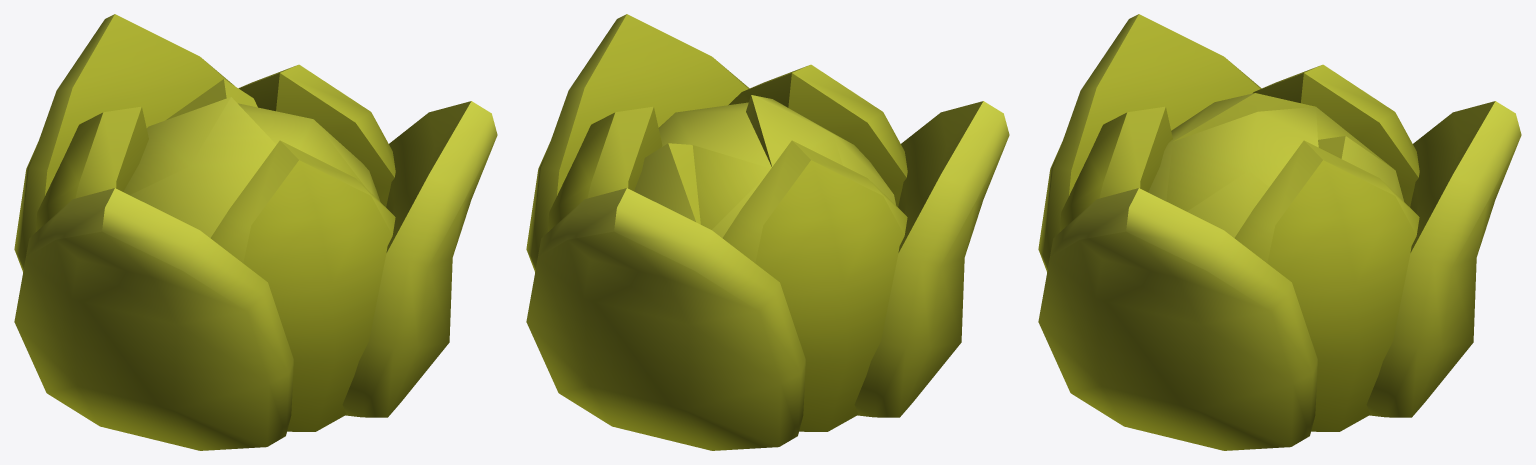
Rendered from kay-food_ingredient_lettuce.glb.
3 views of the same model, side by side, from view 1: azimuth 30°, elevation 25°; view 2: azimuth 150°, elevation 25°; view 3: azimuth 270°, elevation 25° (orthographic).
Visible parts, largest first — view 1: food_ingredient_lettuce; view 2: food_ingredient_lettuce; view 3: food_ingredient_lettuce.
Boxes of the visible parts, <box> form: food_ingredient_lettuce: <box>14,14,497,450</box>; food_ingredient_lettuce: <box>526,14,1009,450</box>; food_ingredient_lettuce: <box>1038,14,1521,450</box>.
Size of the model in its own units: 0.2144 by 0.1593 by 0.22.
Materials: 1 (1 with a texture image).
